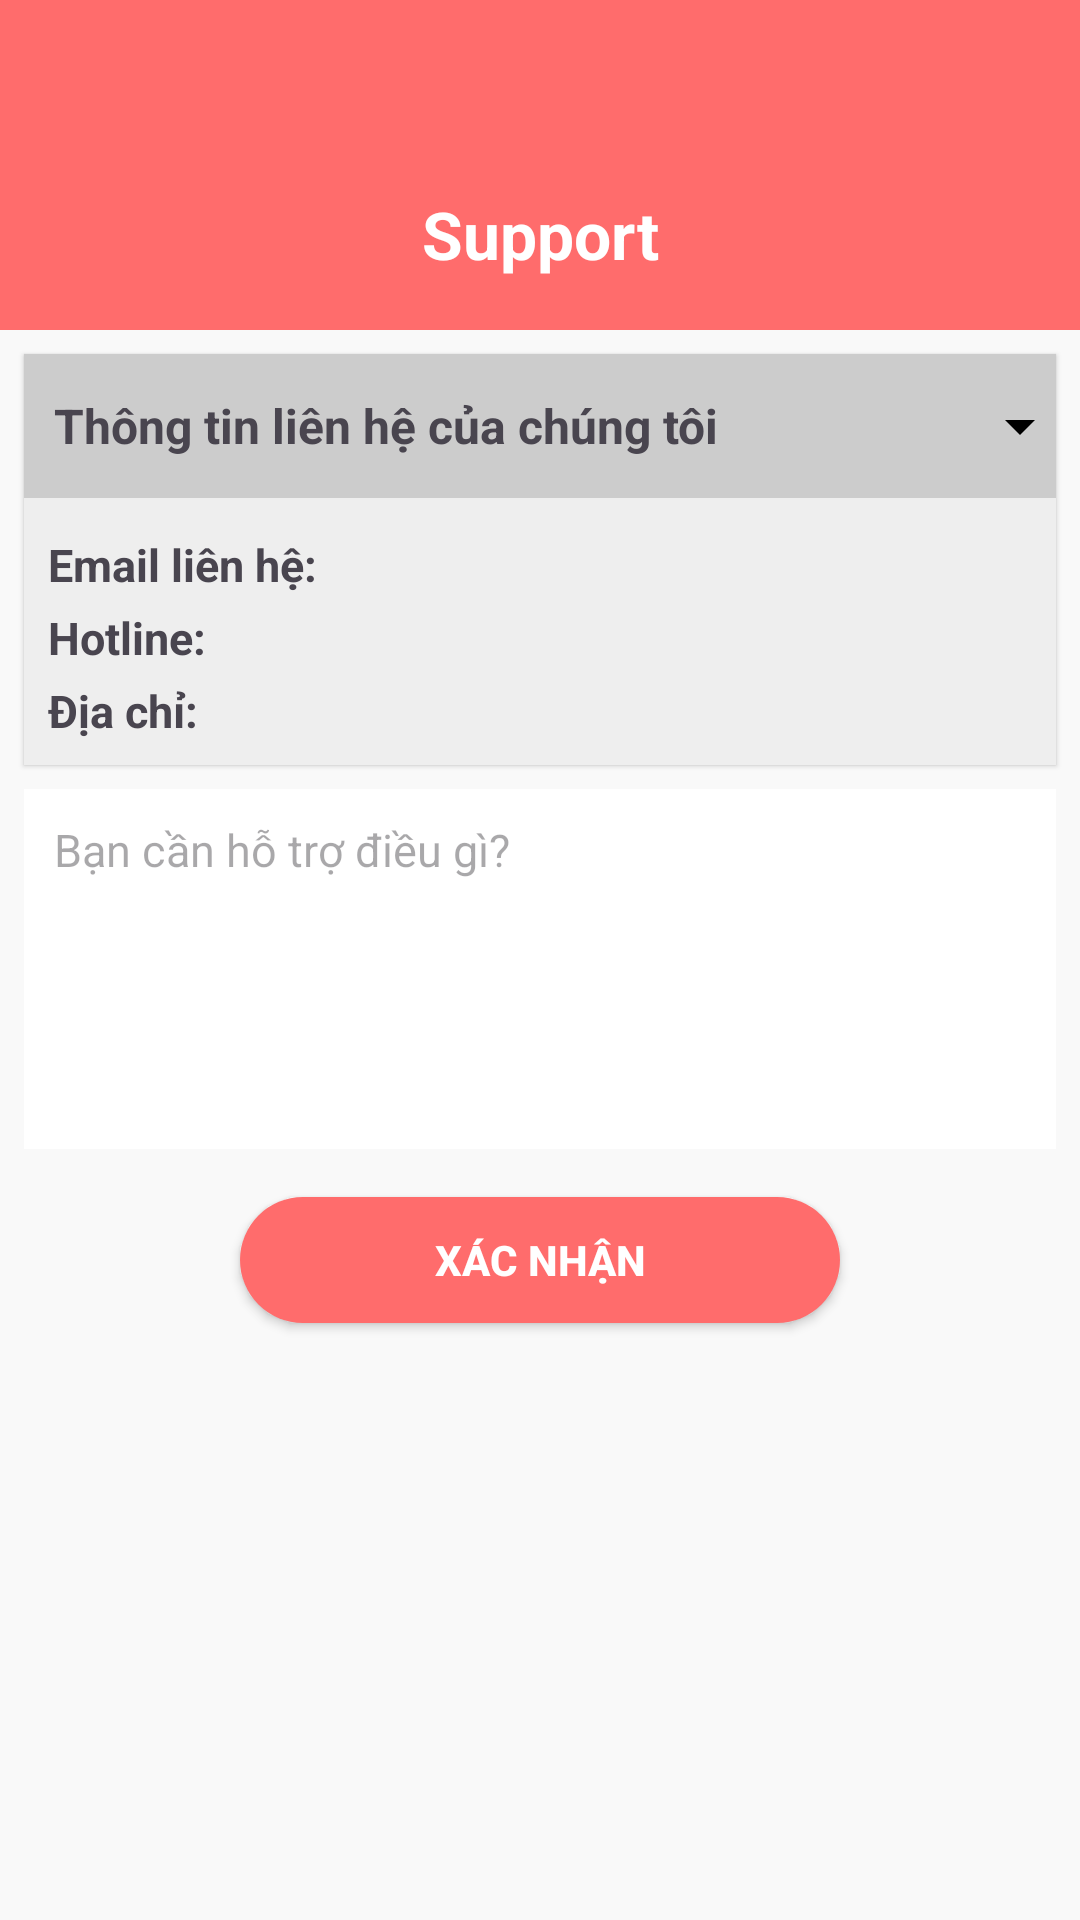

Named icons in this screenshot (1080w x 1920h) and their centers, point (x, y):
arrow drop down: point (1020, 427)
